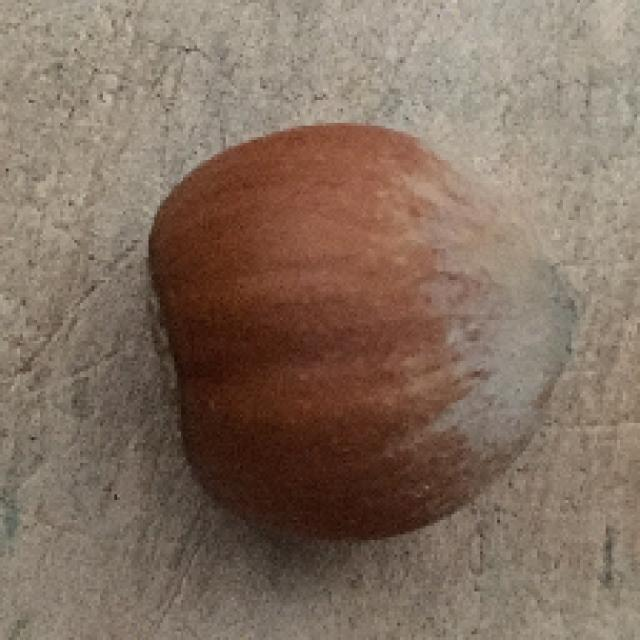QualityHazelnut: (146, 119, 586, 536)
